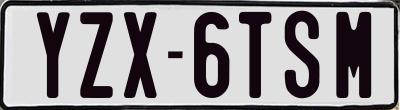6: (194, 9, 232, 98)
M: (334, 9, 369, 96)
S: (285, 9, 325, 101)
T: (238, 11, 270, 100)
X: (124, 9, 161, 99)
Y: (35, 9, 72, 100)
Z: (79, 11, 114, 98)
